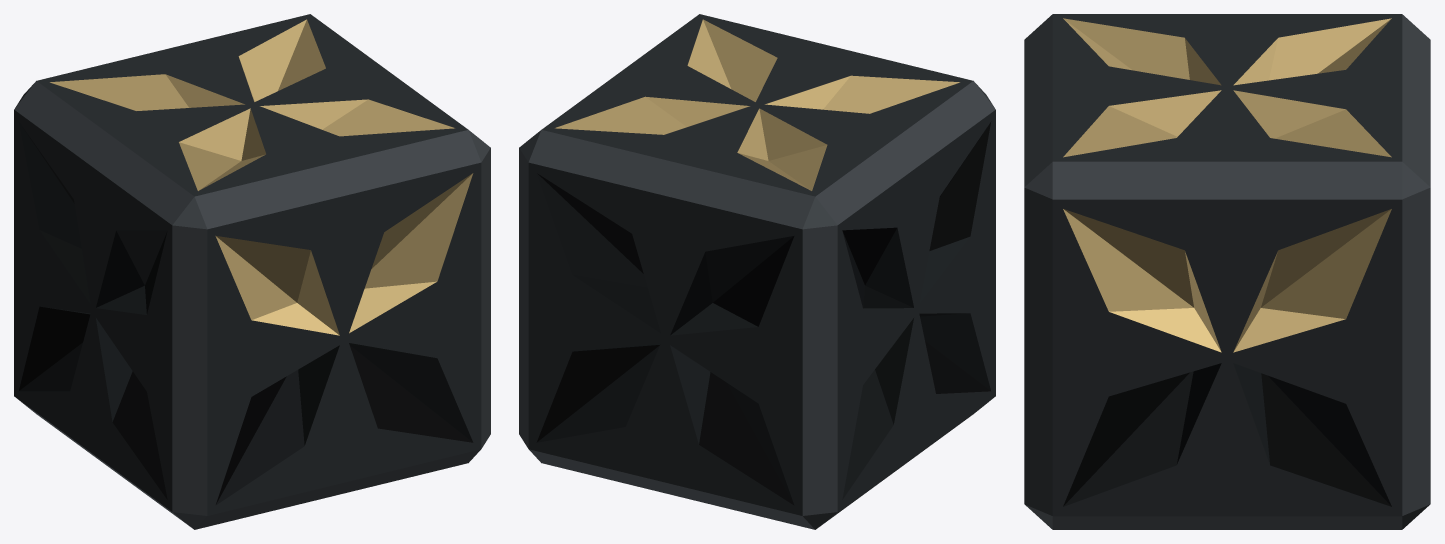
Rendered from vitruvium-die.glb.
3 views of the same model, side by side, from view 1: azimuth 30°, elevation 25°; view 2: azimuth 150°, elevation 25°; view 3: azimuth 270°, elevation 25° (orthographic). The views are drawn at different scales.
Parts seen in each view (by area): view 1: Face_1_surface_with_true_cutouts, Single_clean_12_edge_bevel_shell, Face_0_surface_with_true_cutouts, Face_2_surface_with_true_cutouts, Dark_rhomboid_cavity_4 (×2), Dark_rhomboid_cavity_3 (×2), Painted_rhomboid_cavity_2 (×2), Painted_rhomboid_cavity_1 (×2), Dark_rhomboid_cavity_2, Dark_rhomboid_cavity_1, Painted_rhomboid_cavity_4, Painted_rhomboid_cavity_3; view 2: Face_0_surface_with_true_cutouts (×2), Single_clean_12_edge_bevel_shell, Face_2_surface_with_true_cutouts, Dark_rhomboid_cavity_1 (×2), Dark_rhomboid_cavity_3 (×2), Dark_rhomboid_cavity_2 (×2), Dark_rhomboid_cavity_4 (×2), Painted_rhomboid_cavity_1, Painted_rhomboid_cavity_3, Painted_rhomboid_cavity_2, Painted_rhomboid_cavity_4; view 3: Face_1_surface_with_true_cutouts, Single_clean_12_edge_bevel_shell, Face_2_surface_with_true_cutouts, Painted_rhomboid_cavity_1 (×2), Painted_rhomboid_cavity_2 (×2), Dark_rhomboid_cavity_3, Dark_rhomboid_cavity_4, Painted_rhomboid_cavity_3, Painted_rhomboid_cavity_4.
Part boxes in pixels (x1,y1,x2,y2): Face_1_surface_with_true_cutouts: (207, 162, 481, 515); Single_clean_12_edge_bevel_shell: (14, 81, 490, 529); Face_0_surface_with_true_cutouts: (14, 110, 172, 511); Face_2_surface_with_true_cutouts: (36, 14, 468, 196); Dark_rhomboid_cavity_4 (×2): (96, 318, 473, 499); Dark_rhomboid_cavity_3 (×2): (19, 306, 339, 505); Painted_rhomboid_cavity_2 (×2): (50, 74, 339, 335); Painted_rhomboid_cavity_1 (×2): (238, 19, 473, 333); Dark_rhomboid_cavity_2: (18, 121, 90, 303); Dark_rhomboid_cavity_1: (96, 230, 167, 314); Painted_rhomboid_cavity_4: (260, 99, 454, 136); Painted_rhomboid_cavity_3: (179, 108, 265, 190); Face_0_surface_with_true_cutouts (×2): (528, 110, 995, 515); Single_clean_12_edge_bevel_shell: (519, 81, 995, 529); Face_2_surface_with_true_cutouts: (541, 14, 973, 196); Dark_rhomboid_cavity_1 (×2): (670, 121, 991, 335); Dark_rhomboid_cavity_3 (×2): (536, 318, 913, 499); Dark_rhomboid_cavity_2 (×2): (536, 173, 913, 333); Dark_rhomboid_cavity_4 (×2): (670, 313, 990, 505); Painted_rhomboid_cavity_1: (555, 96, 749, 134); Painted_rhomboid_cavity_3: (765, 75, 959, 113); Painted_rhomboid_cavity_2: (737, 108, 827, 190); Painted_rhomboid_cavity_4: (687, 19, 777, 101); Face_1_surface_with_true_cutouts: (1052, 199, 1402, 516); Single_clean_12_edge_bevel_shell: (1024, 14, 1430, 529); Face_2_surface_with_true_cutouts: (1052, 14, 1402, 161); Painted_rhomboid_cavity_1 (×2): (1233, 90, 1391, 352); Painted_rhomboid_cavity_2 (×2): (1063, 18, 1391, 352); Dark_rhomboid_cavity_3: (1063, 363, 1221, 506); Dark_rhomboid_cavity_4: (1233, 363, 1391, 506); Painted_rhomboid_cavity_3: (1063, 18, 1221, 85); Painted_rhomboid_cavity_4: (1063, 90, 1221, 157).
Bounding box in the file's own units: 1 × 1 × 1.
